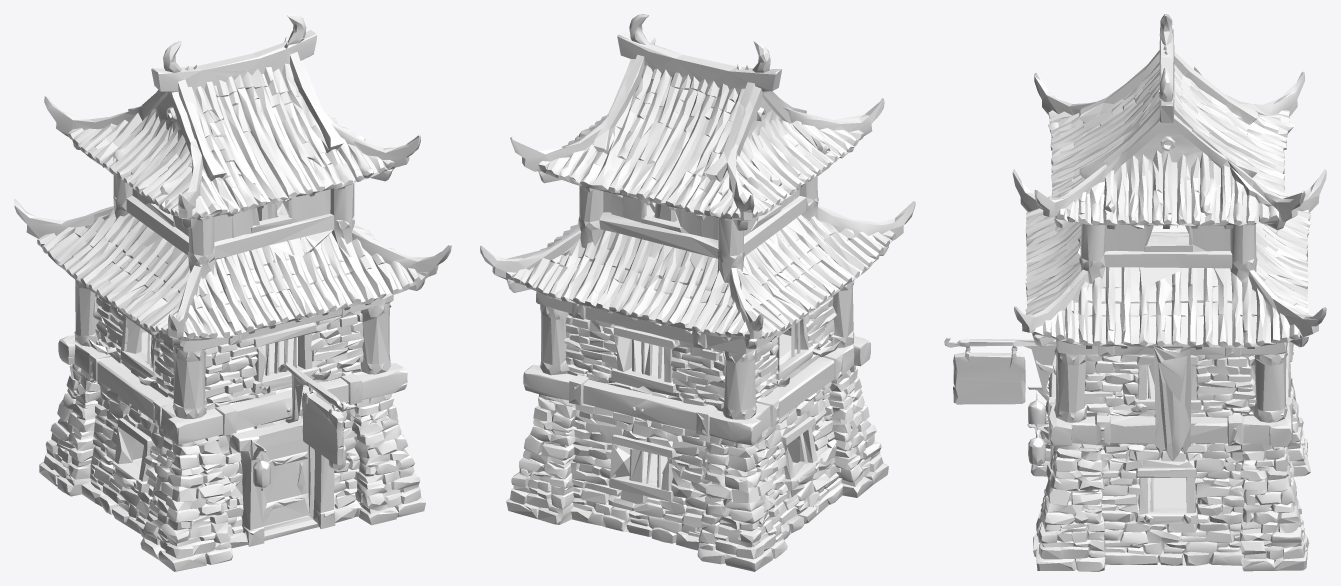
File: house_stone_b.glb
The picture shows the model from 3 angles, left to right: view 1: azimuth 30°, elevation 25°; view 2: azimuth 150°, elevation 25°; view 3: azimuth 270°, elevation 25°; orthographic projection.
Parts seen in each view (by area): view 1: house_stone_b; view 2: house_stone_b; view 3: house_stone_b.
Boxes of the visible parts, <box> form: house_stone_b: <box>14,14,451,571</box>; house_stone_b: <box>480,14,915,571</box>; house_stone_b: <box>944,14,1326,571</box>.
Bounding box in the file's own units: 7.02 × 11 × 8.15.
Materials: 1 (1 with a texture image).
